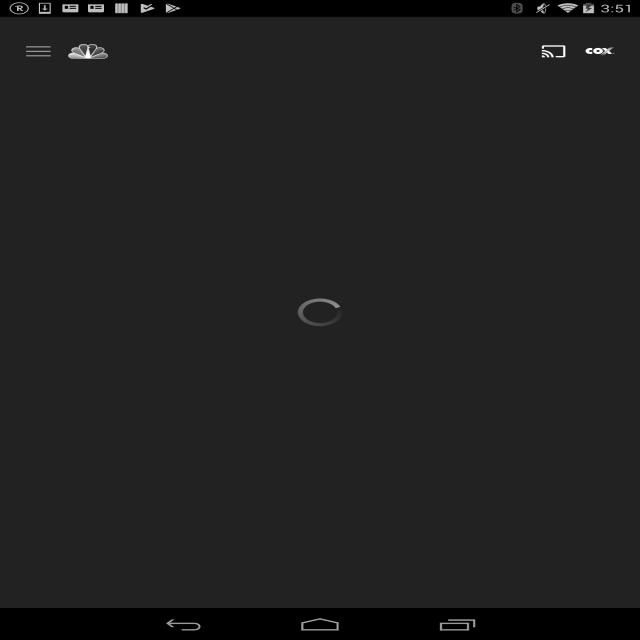ImageButton: (18, 41, 58, 61), (536, 42, 574, 62), (582, 44, 617, 56)
ImageView: (65, 40, 112, 62)
Spinner: (293, 294, 358, 329)
